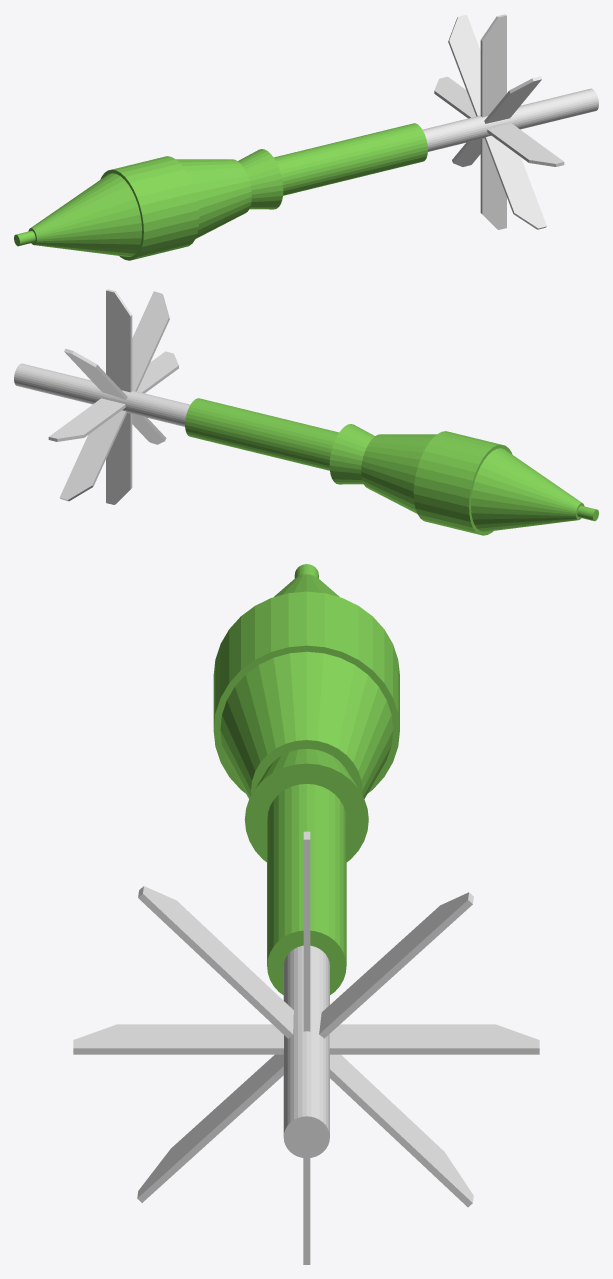
File: RPG7-Grenade_fins.fbx
3 views of the same model, one above another, from view 1: azimuth 30°, elevation 25°; view 2: azimuth 150°, elevation 25°; view 3: azimuth 270°, elevation 25° (orthographic). The views are drawn at different scales.
Visible parts, largest first — view 1: Cylinder.004, Cylinder.003, Cylinder.002, Cylinder.005, Cube.005, Cube, Cylinder.007, Cube.004, Cylinder.000, Cube.001, Cylinder.006, Cube.002 (+3 smaller); view 2: Cylinder.004, Cylinder.003, Cylinder.002, Cylinder.005, Cube, Cube.007, Cube.006, Cylinder.007, Cylinder.000, Cube.001, Cylinder.006, Cube.003 (+3 smaller); view 3: Cylinder.005, Cylinder.003, Cylinder.002, Cube.002, Cube.003, Cylinder.000, Cylinder.007, Cube.006, Cube.007, Cube.004, Cube.005, Cylinder.006 (+1 smaller).
Boxes of the visible parts, x1,y1,x2,y2 form: Cylinder.004: (28, 173, 141, 256); Cylinder.003: (274, 123, 427, 195); Cylinder.002: (100, 156, 199, 260); Cylinder.005: (176, 159, 251, 238); Cube.005: (484, 135, 546, 229); Cube: (480, 14, 506, 117); Cylinder.007: (510, 88, 598, 129); Cube.004: (448, 14, 480, 116); Cylinder.000: (238, 149, 283, 209); Cube.001: (480, 138, 506, 229); Cylinder.006: (422, 115, 510, 151); Cube.002: (487, 123, 564, 166); Cylinder.004: (471, 448, 584, 531); Cylinder.003: (185, 398, 338, 470); Cylinder.002: (413, 431, 512, 535); Cylinder.005: (361, 434, 436, 513); Cube: (106, 289, 132, 392); Cube.007: (59, 410, 126, 501); Cube.006: (132, 291, 169, 391); Cylinder.007: (14, 363, 102, 404); Cylinder.000: (329, 424, 374, 484); Cube.001: (106, 413, 132, 504); Cylinder.006: (101, 390, 189, 426); Cube.003: (48, 398, 125, 441); Cylinder.005: (220, 651, 393, 798); Cylinder.003: (267, 784, 346, 994); Cylinder.002: (213, 591, 399, 793); Cube.002: (73, 1024, 283, 1054); Cube.003: (329, 1024, 539, 1054); Cylinder.000: (244, 749, 368, 862); Cylinder.007: (283, 1031, 329, 1158); Cube.006: (138, 886, 293, 1038); Cube.007: (330, 1054, 473, 1207); Cube.004: (319, 892, 473, 1038); Cube.005: (137, 1054, 283, 1202); Cylinder.006: (283, 945, 329, 1047).
Bounding box in the file's own units: 1534 × 541 × 538.
